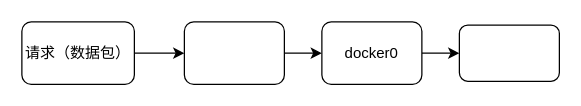
Some shapes in this 581 by 106 pixel diagram are drawn without their labels. The centre of each missing label's shape, as x and y in pixels:
docker网络栈: [233,52]
宿主机: [508,52]
